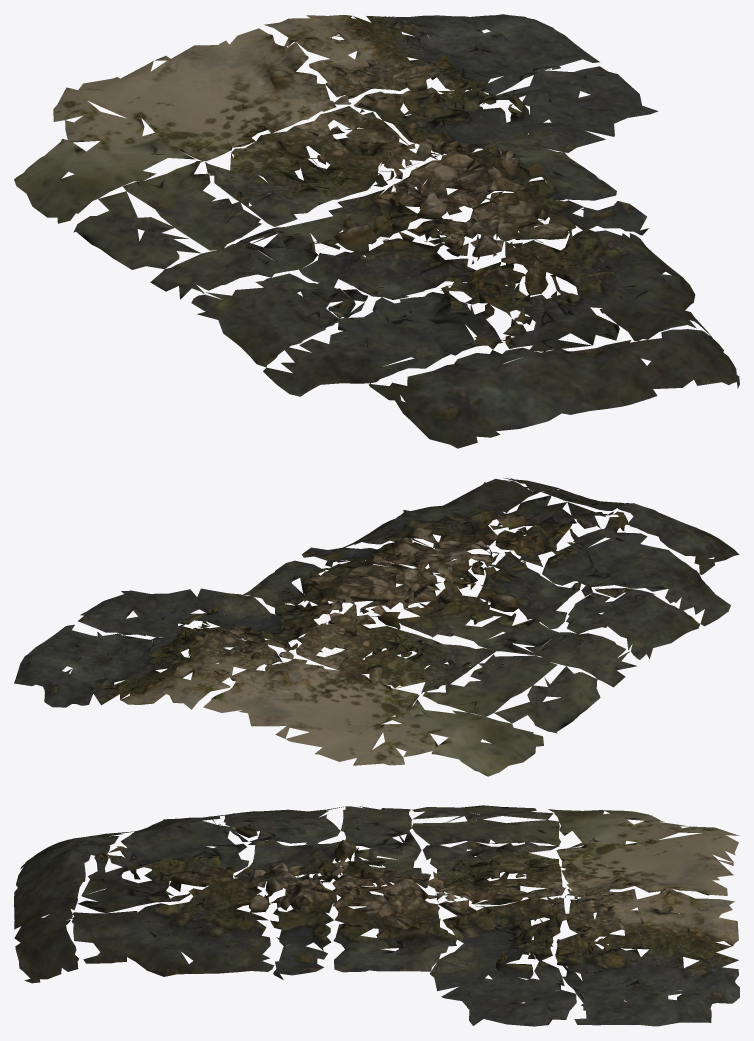
Rendered from jeju_coastal_rock.glb.
3 renders of one model, top to bottom at view 1: azimuth 30°, elevation 25°; view 2: azimuth 150°, elevation 25°; view 3: azimuth 270°, elevation 25°, orthographic. The views are drawn at different scales.
Bounding box in the file's own units: 0.7465 × 0.1078 × 1.
Materials: 1 (1 with a texture image).
